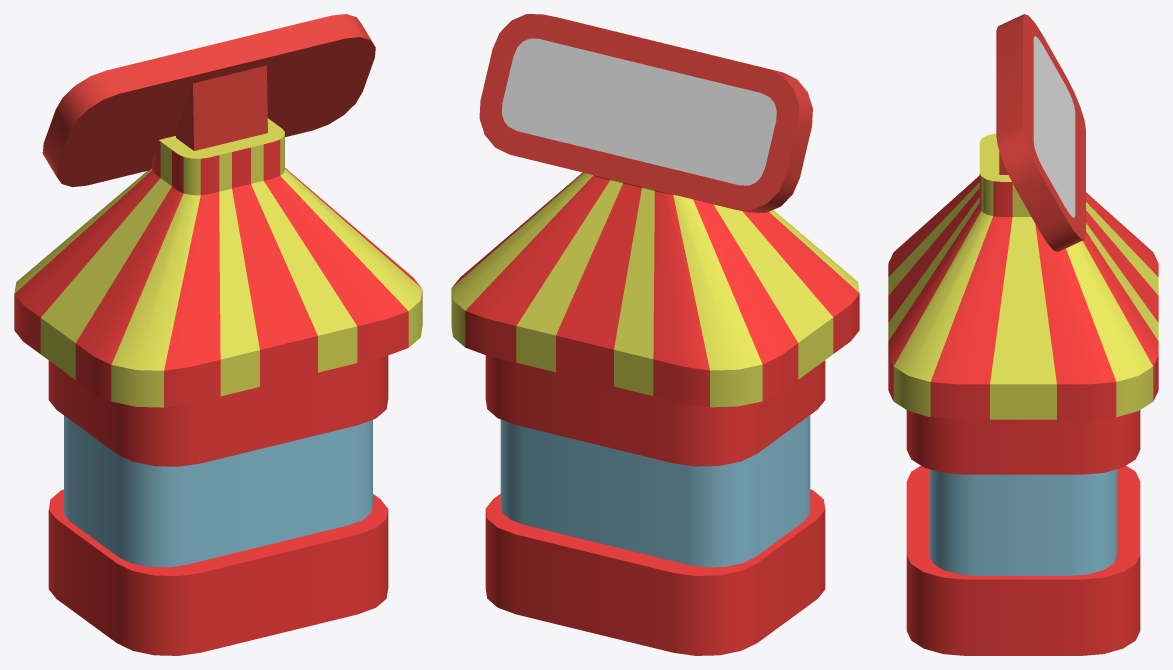
The model's file is cash.fbx.
3 renders of one model, left to right at view 1: azimuth 30°, elevation 25°; view 2: azimuth 150°, elevation 25°; view 3: azimuth 270°, elevation 25°, orthographic. The views are drawn at different scales.
Visible parts, largest first — view 1: cash; view 2: cash; view 3: cash.
Boxes of the visible parts, x1=… form: cash: x1=14, y1=14, x2=422, y2=655; cash: x1=451, y1=14, x2=859, y2=655; cash: x1=888, y1=14, x2=1158, y2=655.
Bounding box in the file's own units: 484 × 787 × 368.
